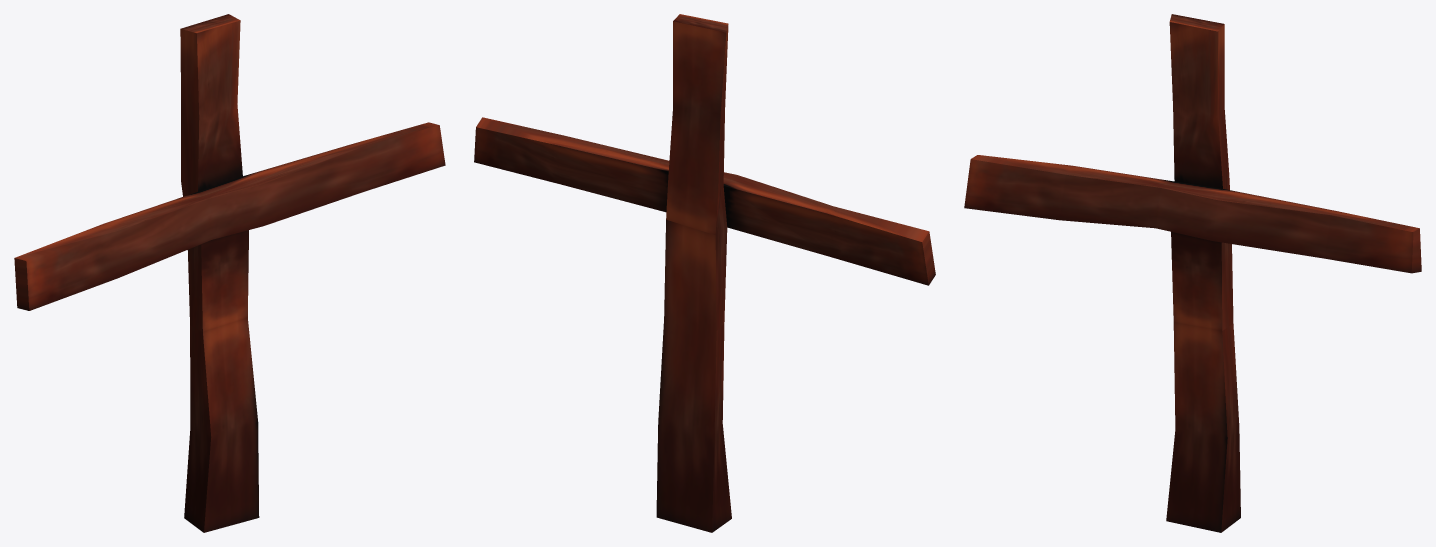
File: grave_wood_cross2.DAE
3 views of the same model, side by side, from view 1: azimuth 30°, elevation 25°; view 2: azimuth 150°, elevation 25°; view 3: azimuth 330°, elevation 25° (orthographic).
Parts seen in each view (by area): view 1: Box03; view 2: Box03; view 3: Box03.
Part boxes in pixels (x1,y1,x2,y2): Box03: (14, 14, 445, 532); Box03: (474, 14, 935, 532); Box03: (964, 14, 1421, 532).
Bounding box in the file's own units: 1.21 × 1.31 × 0.1628.
